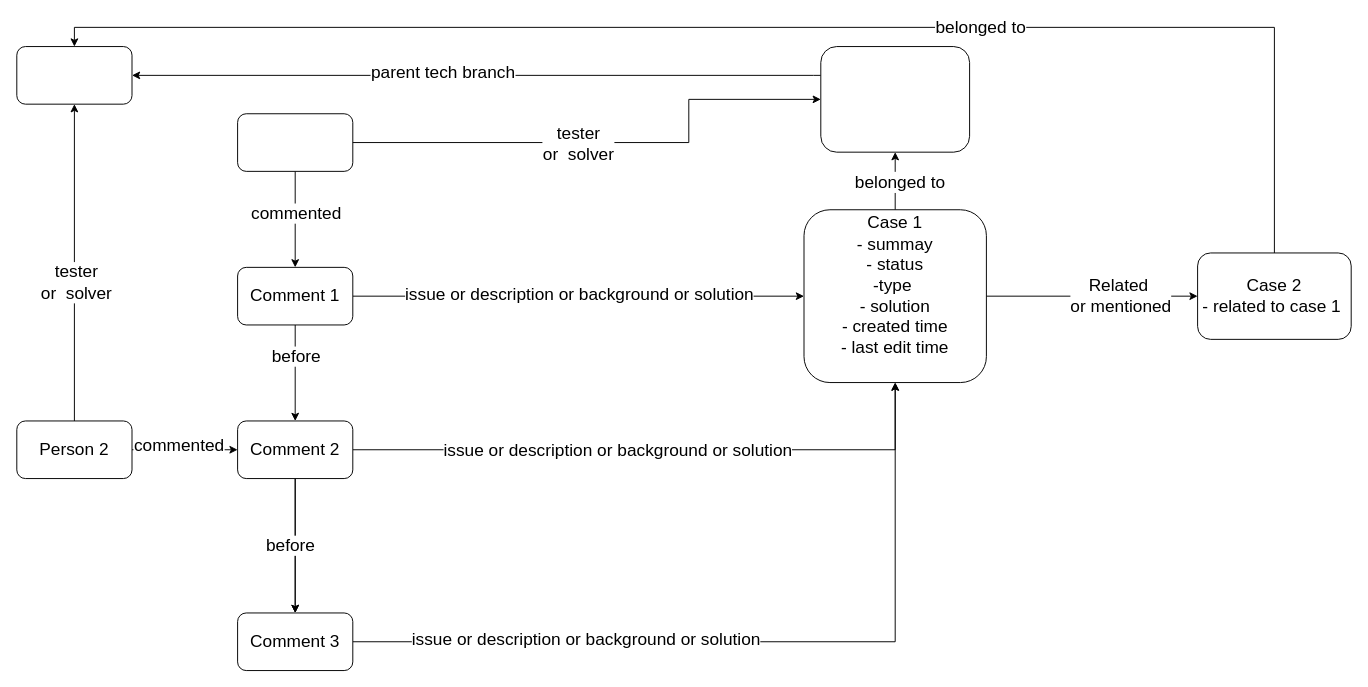
Some shapes in this 1368 by 687 pixel diagram are drawn without their labels. The shapes that lost their labels are listed below. From the top down, each one's centre as x and y in pixels, then its label:
point 74,75: Tech branch 2
point 895,99: Tech branch 1 - subject - sub subjects - parent subjects
point 295,142: Person 1
